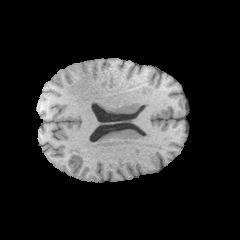glioma: (65, 73, 106, 111)
